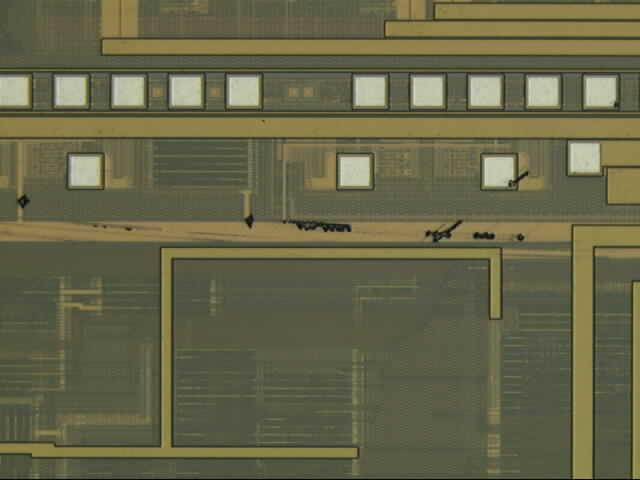SCRATCH: (1, 95, 628, 270)
